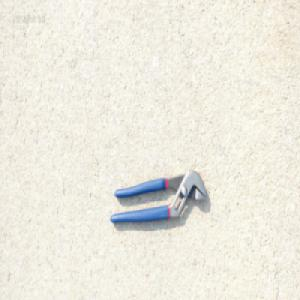Pliers: (109, 166, 209, 222)
